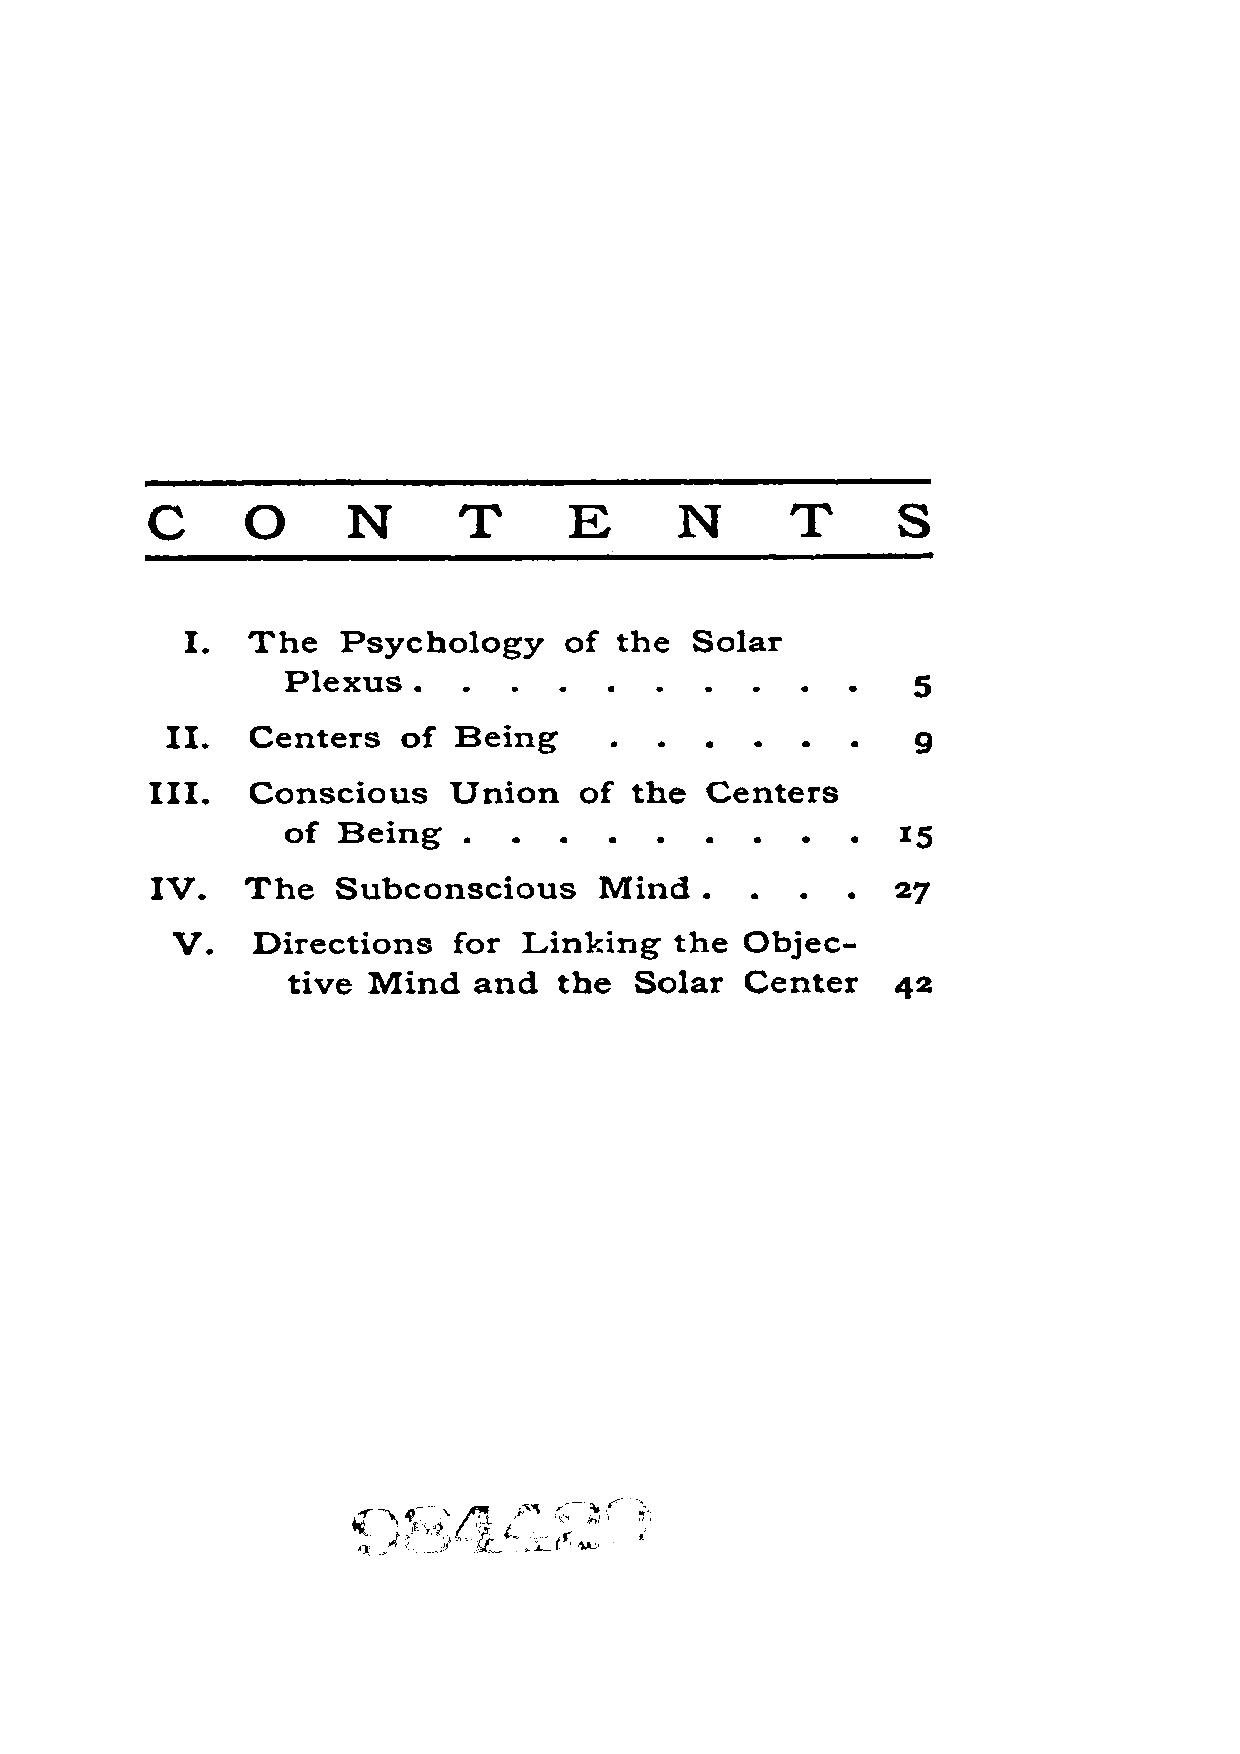TOC_chapter: (140, 774, 843, 852), (162, 925, 864, 1002), (178, 621, 786, 695), (145, 868, 696, 909), (161, 721, 570, 756)
TOC_pagenumber: (888, 972, 935, 1002), (888, 878, 935, 905), (896, 823, 935, 851), (909, 727, 935, 756), (911, 670, 933, 702)
chapter: (142, 494, 933, 541)
